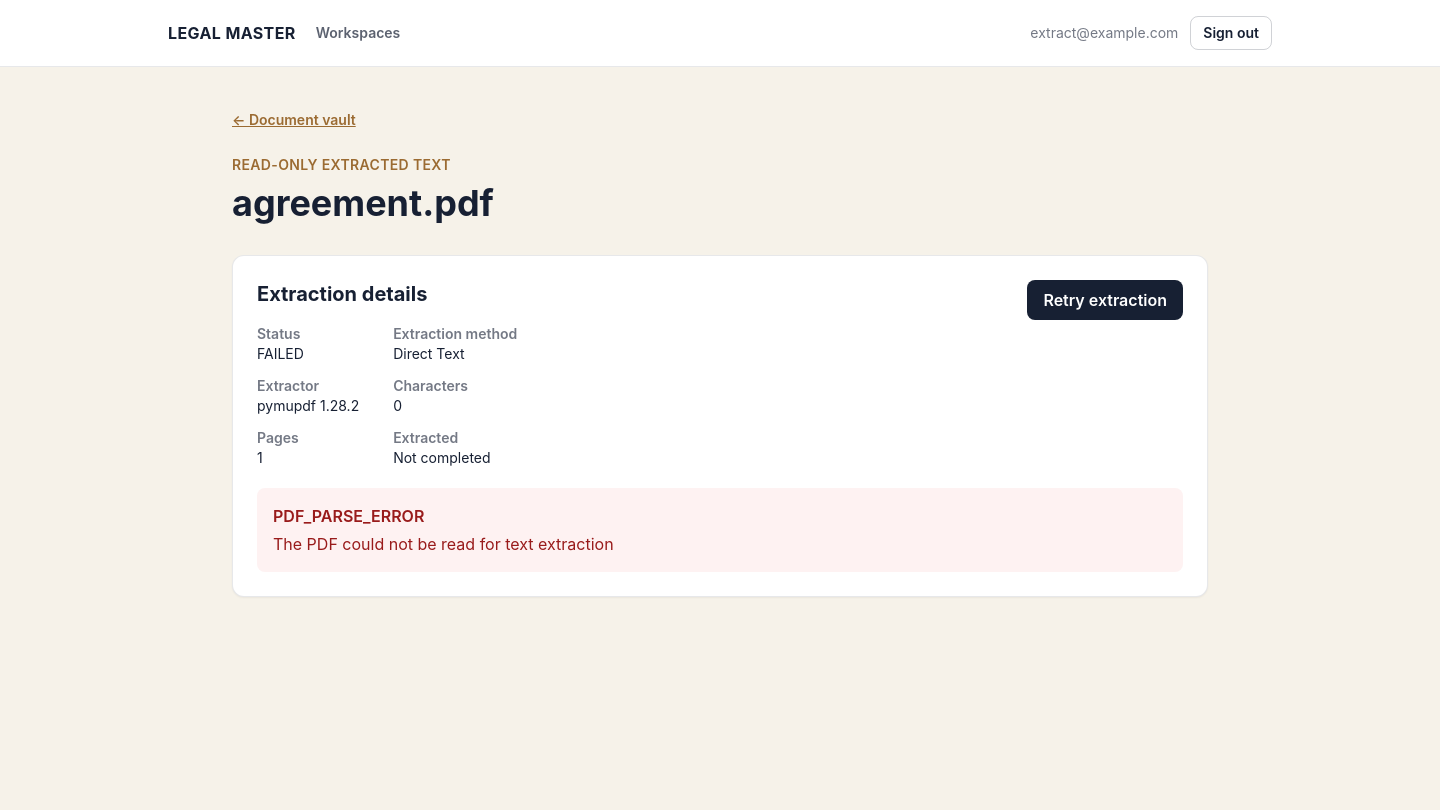
Document extraction page › failed extraction shows safe error and retry control
The width and height of the screenshot is (1440, 810).
Expected: the text "PDF_PARSE_ERROR" is shown, [273,506,424,526]
Click the button "Retry extraction". click: (1105, 300)
box: [1027,280,1183,320]
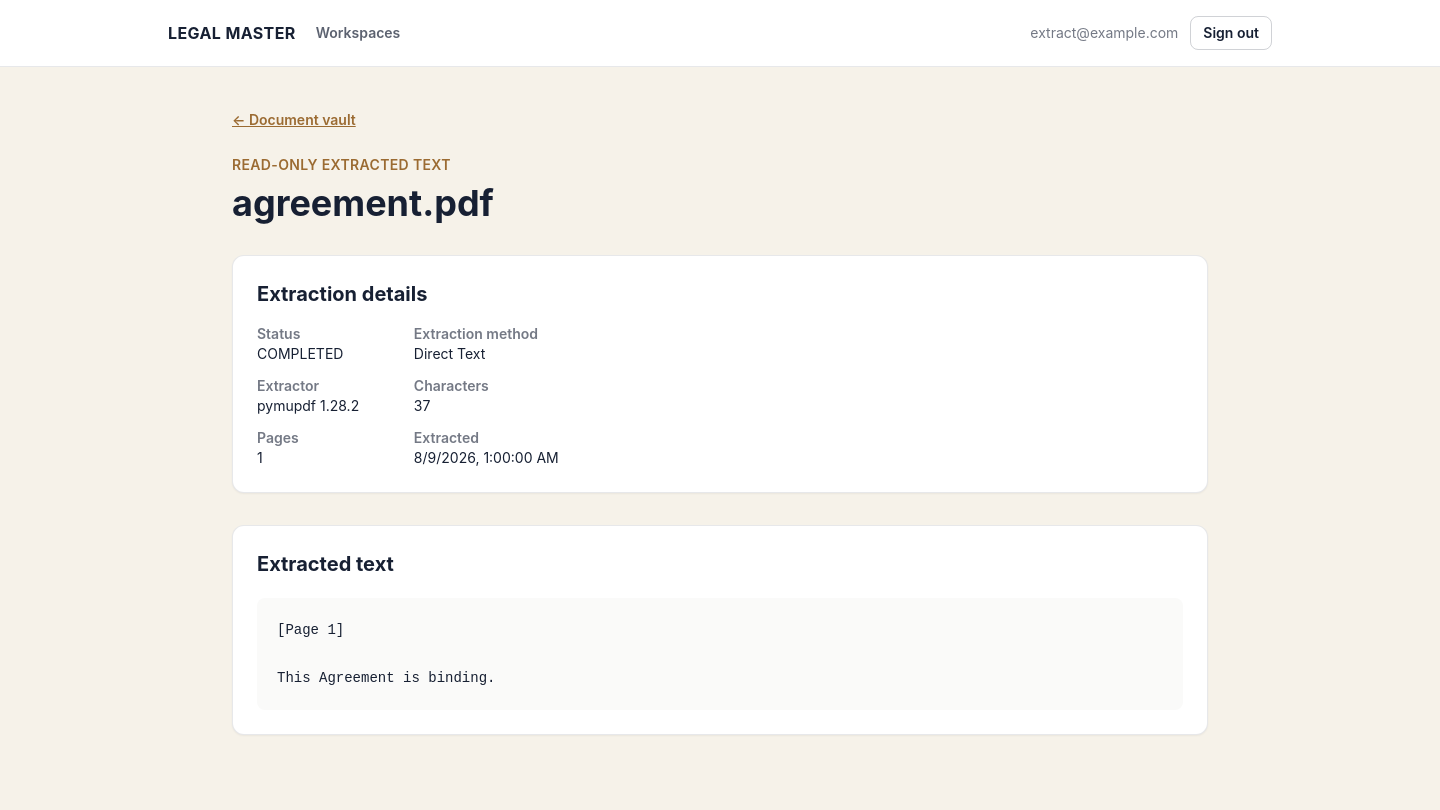
Result: the text "This Agreement is binding." is shown at [277,622,495,686]
